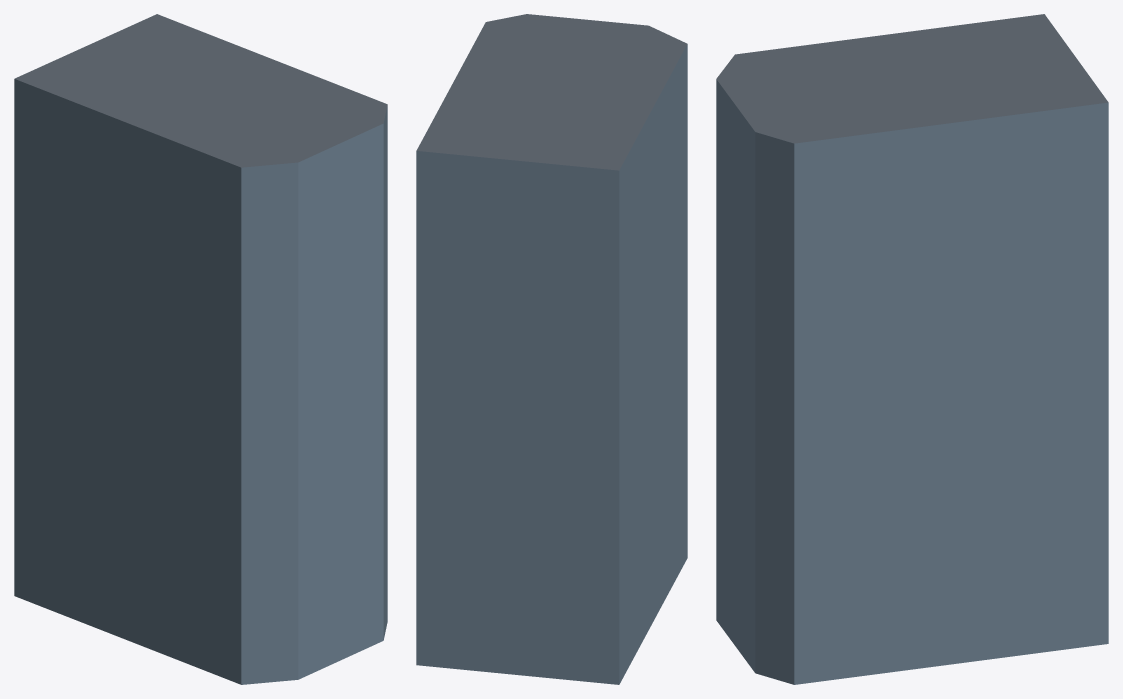
The picture shows the model from 3 angles, left to right: view 1: azimuth 30°, elevation 25°; view 2: azimuth 150°, elevation 25°; view 3: azimuth 270°, elevation 25°; orthographic projection. The views are drawn at different scales.
Visible parts, largest first — view 1: HP-w378107238; view 2: HP-w378107238; view 3: HP-w378107238.
Part boxes in pixels (x1,y1,x2,y2): HP-w378107238: (14,14,387,684); HP-w378107238: (416,14,687,684); HP-w378107238: (716,14,1108,684).
Size of the model in its own units: 31.22 by 60.8 by 39.95.
